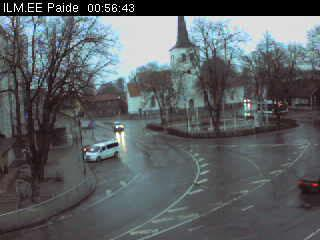bus: (257, 98, 288, 116)
car: (84, 139, 120, 162), (298, 170, 320, 198), (112, 120, 125, 132)
